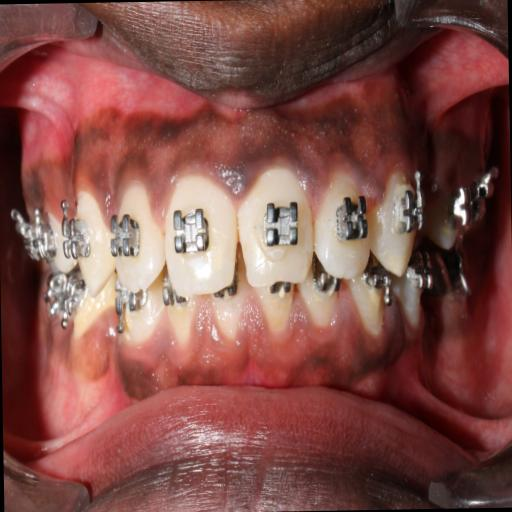correct_brace: (258, 196, 306, 258), (171, 204, 213, 266), (106, 198, 140, 272), (334, 190, 372, 244), (60, 202, 92, 264), (392, 184, 423, 240)
incorrect_brace: (312, 158, 374, 286), (108, 175, 160, 289)
